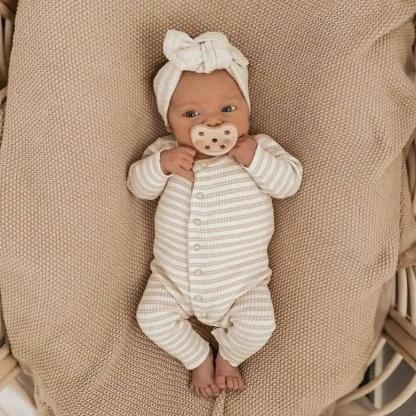baby: (127, 27, 302, 399)
